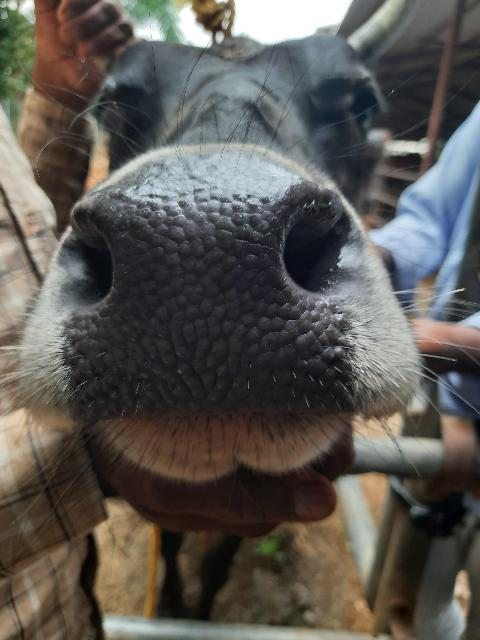Muzzle: (110, 174, 278, 398)
